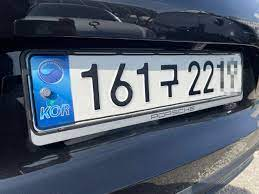car: (11, 36, 252, 148)
